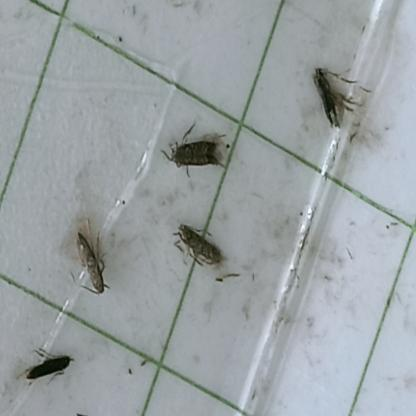prays_oleae: (159, 206, 230, 290), (74, 186, 113, 324), (312, 52, 350, 150), (160, 136, 228, 184), (19, 338, 80, 390)
